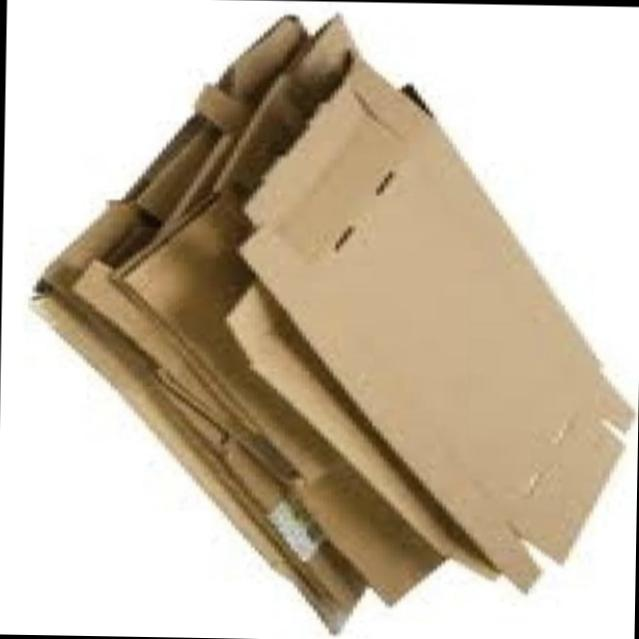cardboard paper: (35, 17, 633, 632), (241, 59, 633, 588)
